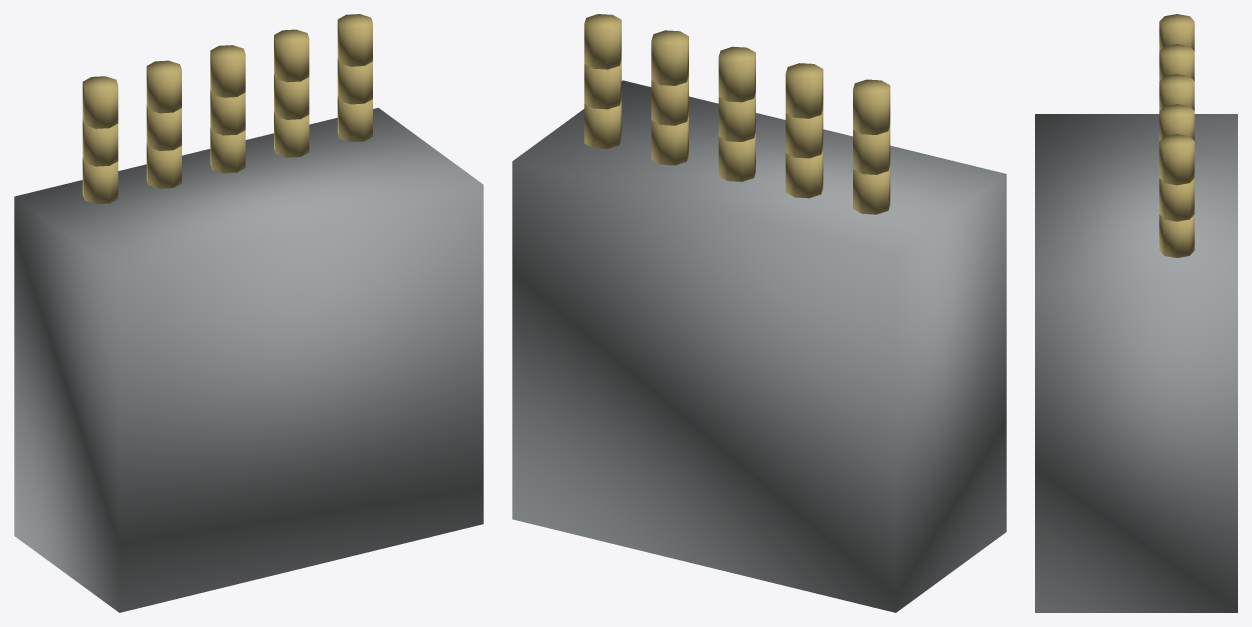
File: votive_candle_stand__reinforced.glb
The picture shows the model from 3 angles, left to right: view 1: azimuth 30°, elevation 25°; view 2: azimuth 150°, elevation 25°; view 3: azimuth 270°, elevation 25°; orthographic projection. The views are drawn at different scales.
Parts seen in each view (by area): view 1: world; view 2: world; view 3: world.
Part boxes in pixels (box(x1,y1,x2,y2)): world: box(14, 14, 483, 612); world: box(512, 14, 1006, 612); world: box(1035, 14, 1237, 612).
Size of the model in its own units: 0.824 by 0.9996 by 0.412.
